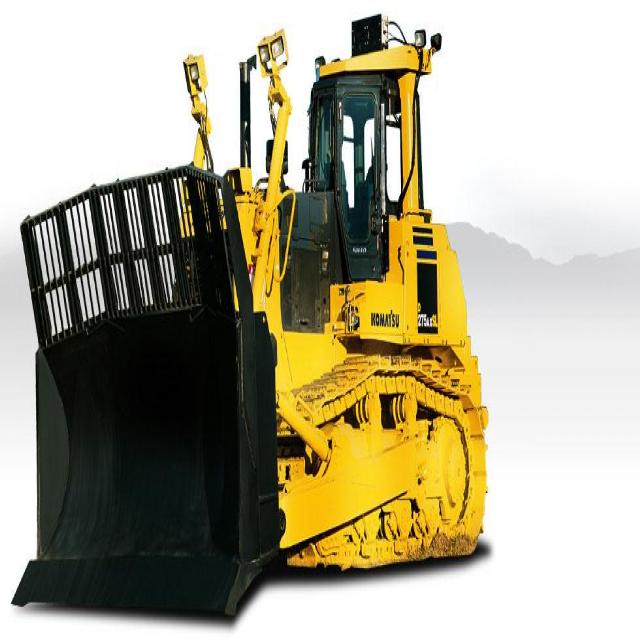Bulldozer: (18, 16, 491, 638)
